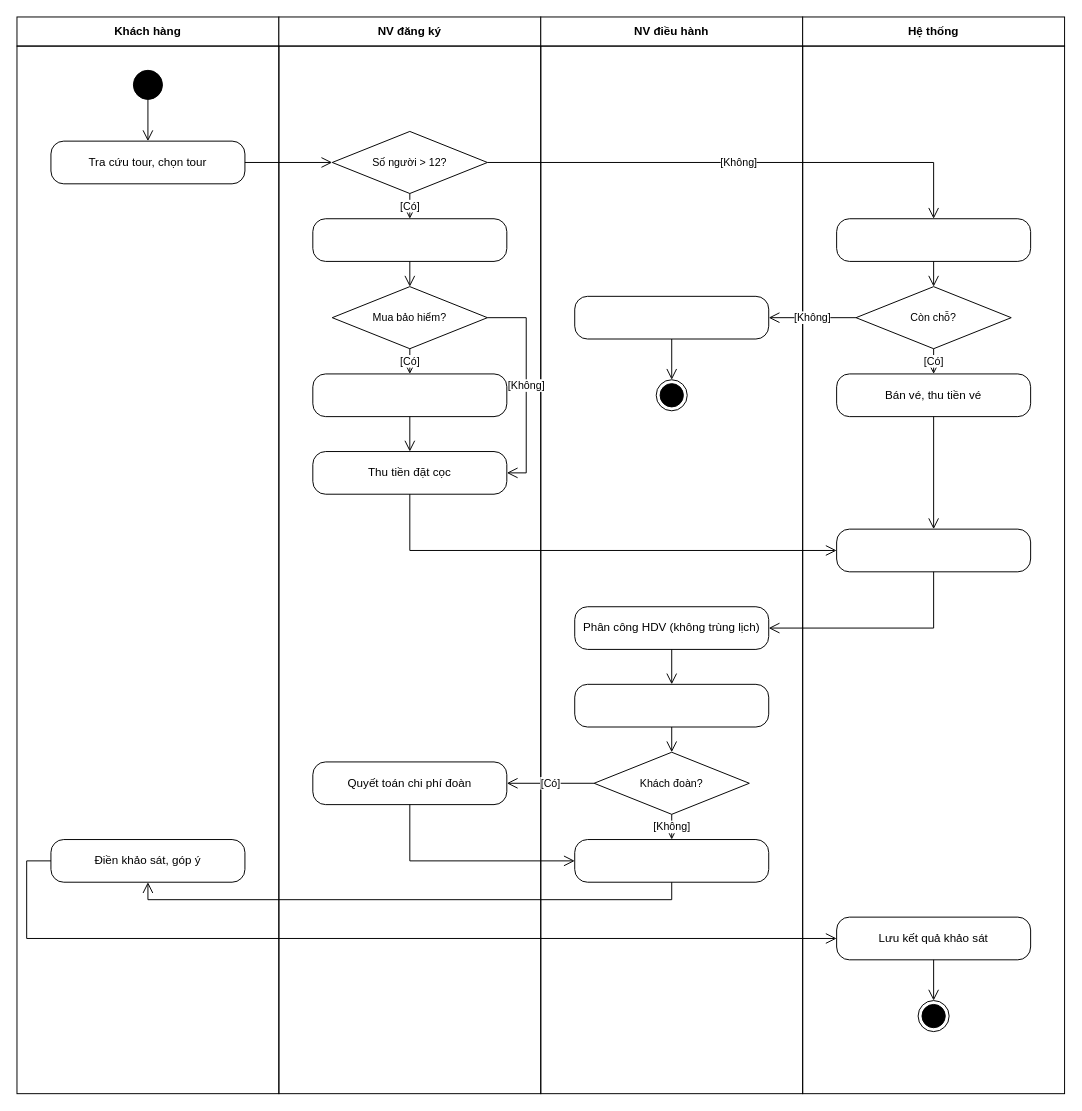
Image size: 1082x1111. Some labels were removed from this diagram. Here are the shapes that lost their labels. From the top down, the box of each, then its label:
(312, 218, 507, 261): Lập phiếu ĐK đoàn, nhập TT cơ quan, ngày đi
(836, 218, 1031, 261): Kiểm tra chỗ trống của chuyến
(574, 295, 769, 339): Thông báo hết chỗ, khách chọn chuyến khác
(312, 373, 507, 417): Nhập DS người cùng đi
(836, 528, 1031, 572): Lưu phiếu đăng ký / vé
(574, 683, 769, 727): Thực hiện và kết thúc tour
(574, 839, 769, 882): Gửi phiếu khảo sát
